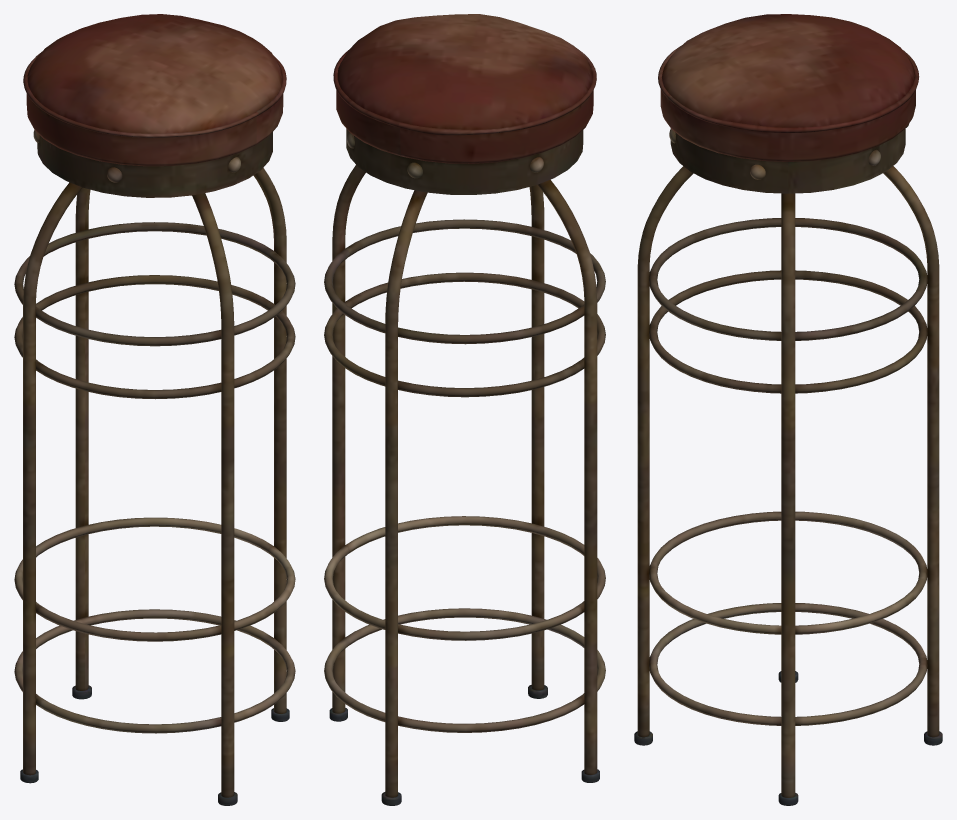
Rendered from stool.glb.
3 renders of one model, left to right at view 1: azimuth 30°, elevation 25°; view 2: azimuth 150°, elevation 25°; view 3: azimuth 270°, elevation 25°, orthographic.
Parts seen in each view (by area): view 1: metal_stool_01; view 2: metal_stool_01; view 3: metal_stool_01.
Part boxes in pixels (bbox=[...]): metal_stool_01: bbox=[14, 14, 295, 805]; metal_stool_01: bbox=[324, 14, 605, 805]; metal_stool_01: bbox=[634, 14, 942, 805].
Bounding box in the file's own units: 0.352 × 0.8828 × 0.3546.
1 material, 1 textured.
